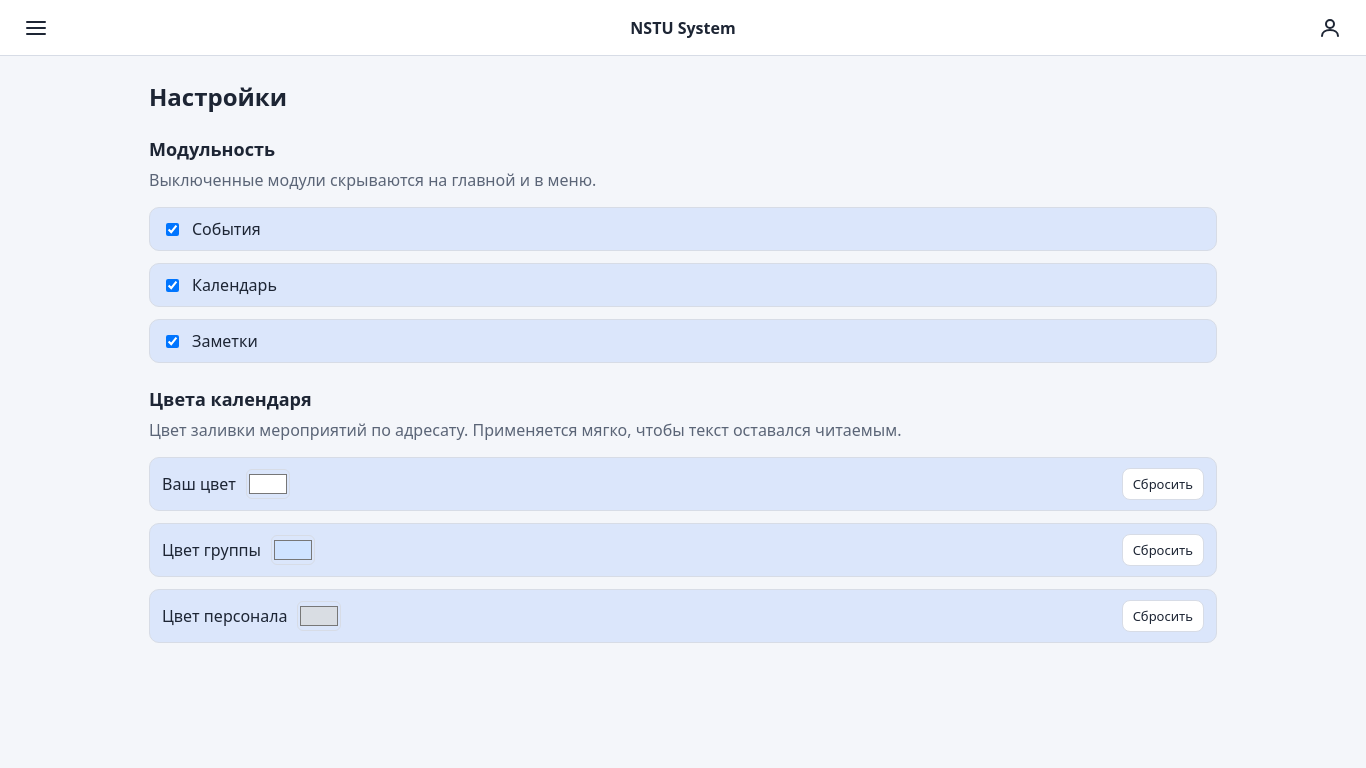
it: страница «Настройки» › ошибка invalid_color показывается, остальные значения не сбрасываются
In the colour field labelled "Цвет группы": (293,550) [271,535,315,565], type "#ff0000"
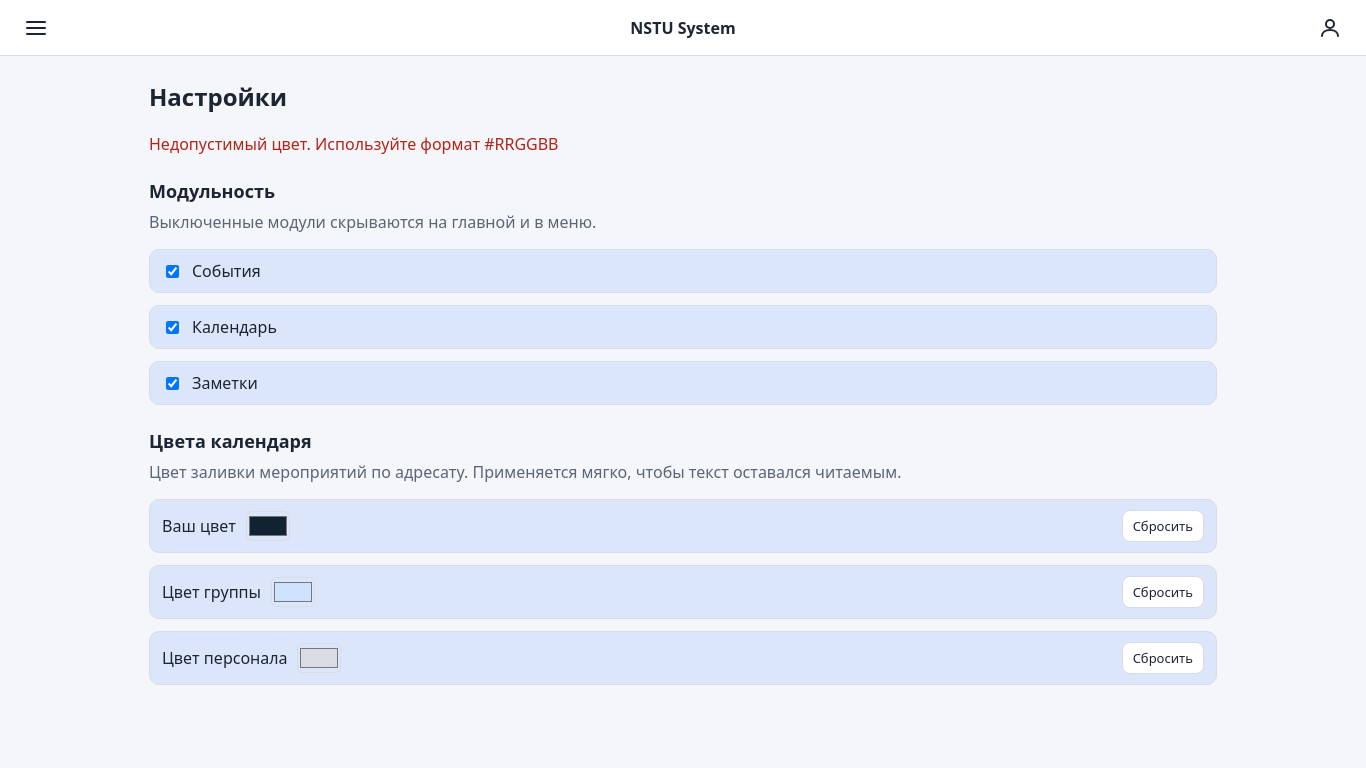
expect the colour field labelled "Цвет группы" holds "#cfe3ff": met, box [271,577,315,607]
expect the message reads "Недопустимый цвет. Используйте формат #RRGGBB": met, box [149,133,558,155]
expect the colour field labelled "Ваш цвет" holds "#112233": met, box [246,511,290,541]
